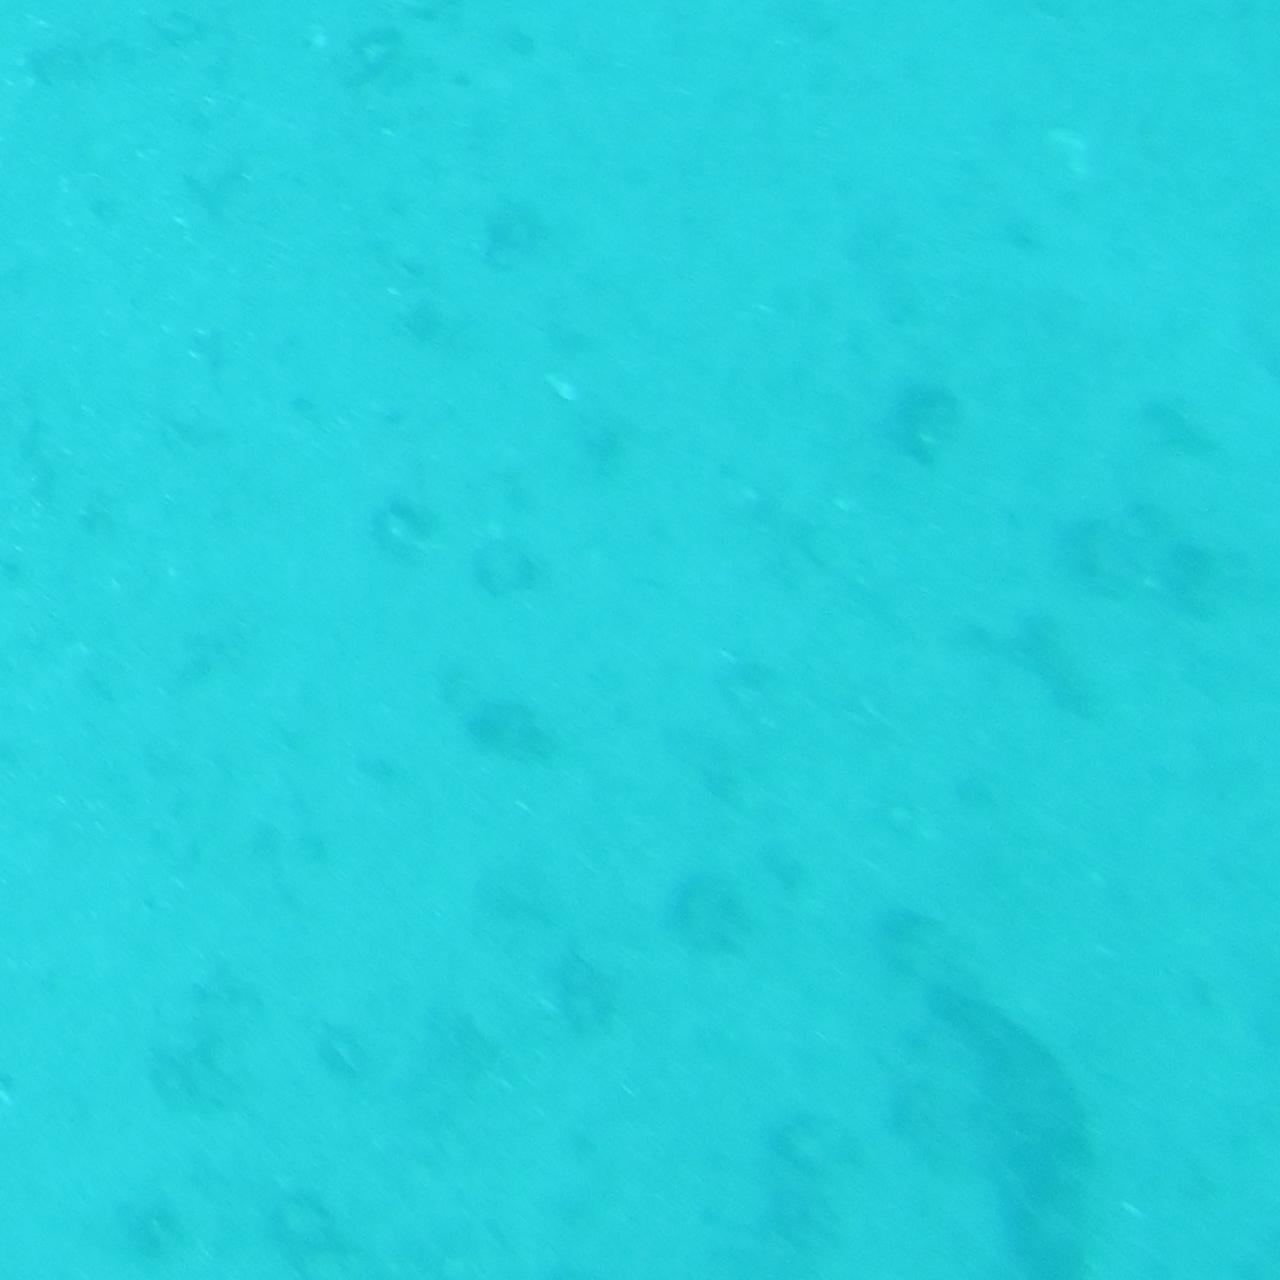Holothuria tubulosa: (915, 954, 1114, 1278)
